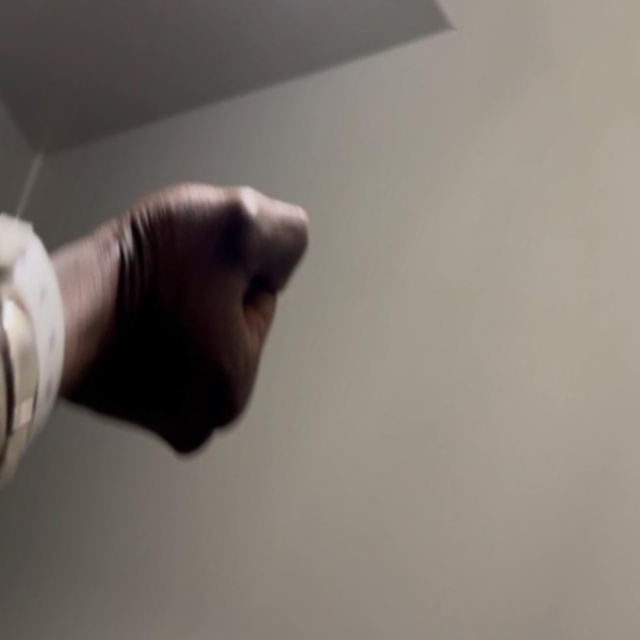Rock: (44, 144, 326, 479)
